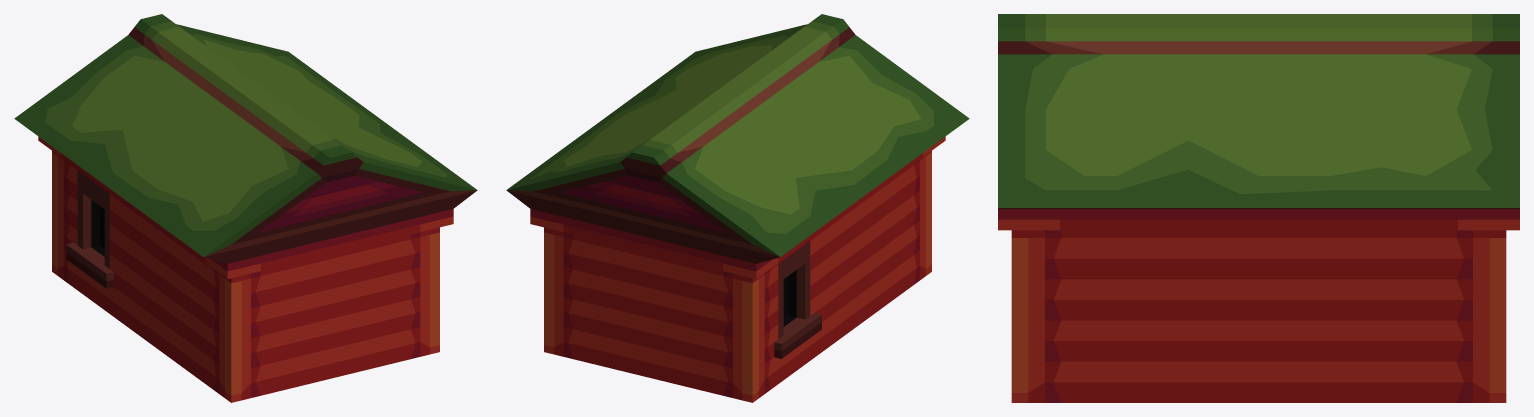
The model's file is buildingFiller1.fbx.
3 views of the same model, side by side, from view 1: azimuth 30°, elevation 25°; view 2: azimuth 150°, elevation 25°; view 3: azimuth 270°, elevation 25° (orthographic). The views are drawn at different scales.
Parts seen in each view (by area): view 1: roof, wall; view 2: roof, wall; view 3: roof, wall.
Boxes of the visible parts, bbox=[...] form: roof: bbox=[14, 14, 477, 278]; wall: bbox=[52, 151, 439, 402]; roof: bbox=[506, 14, 969, 278]; wall: bbox=[544, 151, 931, 402]; roof: bbox=[998, 14, 1519, 230]; wall: bbox=[1011, 230, 1506, 402].
Size of the model in its own units: 707 by 556 by 844.
1 material, 1 textured.
